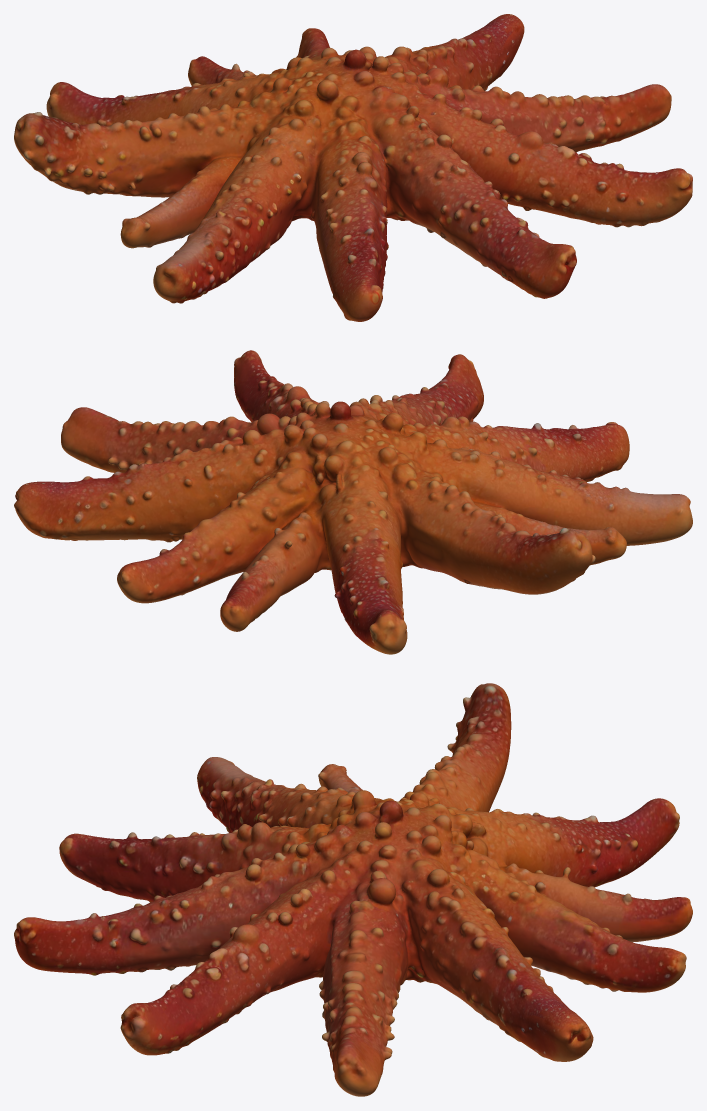
Rendered from star_big_sunflower.glb.
3 renders of one model, top to bottom at view 1: azimuth 30°, elevation 25°; view 2: azimuth 150°, elevation 25°; view 3: azimuth 270°, elevation 25°, orthographic. The views are drawn at different scales.
Parts seen in each view (by area): view 1: tripo_node_631b7e7a-84b0-4f78-ab16-8d2ae673efd1; view 2: tripo_node_631b7e7a-84b0-4f78-ab16-8d2ae673efd1; view 3: tripo_node_631b7e7a-84b0-4f78-ab16-8d2ae673efd1.
Boxes of the visible parts, x1,y1,x2,y2 form: tripo_node_631b7e7a-84b0-4f78-ab16-8d2ae673efd1: [14, 14, 692, 321]; tripo_node_631b7e7a-84b0-4f78-ab16-8d2ae673efd1: [14, 350, 692, 654]; tripo_node_631b7e7a-84b0-4f78-ab16-8d2ae673efd1: [14, 683, 692, 1096].
Bounding box in the file's own units: 1 × 0.2299 × 0.9079.
1 material, 1 textured.
